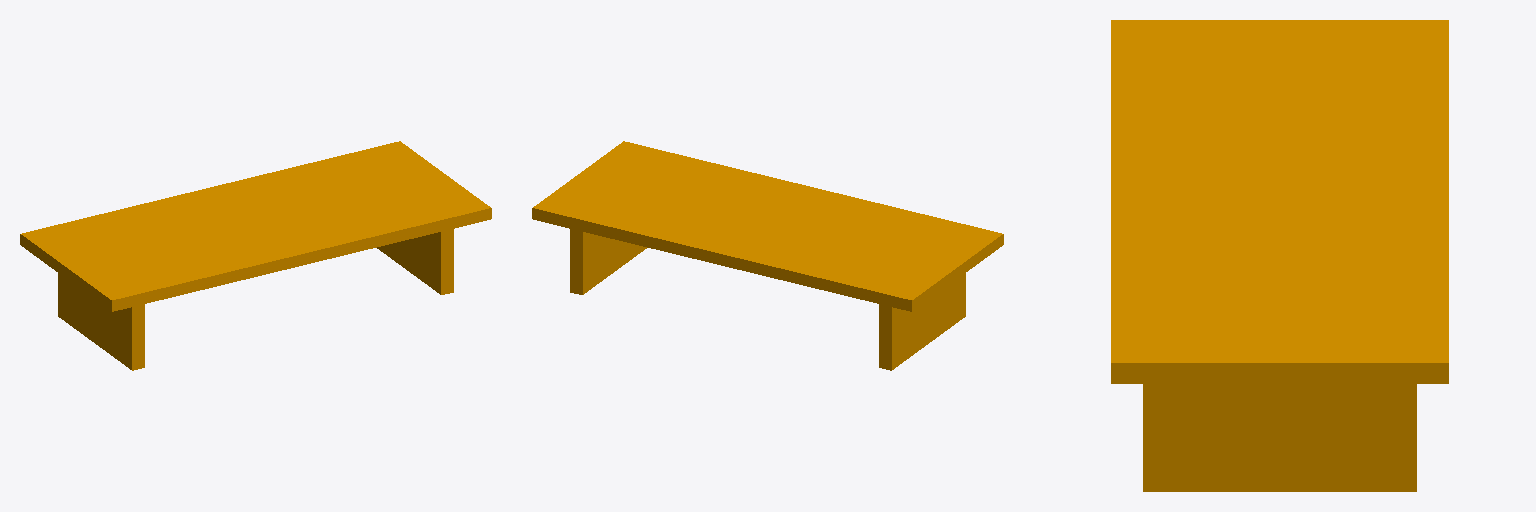
URDF robot description (sniyaz_bin_table):
<robot name="sniyaz_bin_table">
  <link name="base_link">
    <!-- NOTE: Collision geometry is simplified: just three boxes. -->
    <!-- Tabletop Collision Geometry -->
    <collision>
      <origin xyz="0 0 0.358235"/>
      <geometry>
        <box size="1.8288 0.762 0.05295"/>
      </geometry>
    </collision>
    <!-- Left Leg Collision Geometry -->
    <collision>
      <origin xyz="0.7444 0 0.16588"/>
      <geometry>
        <box size="0.06 0.62 0.33176"/>
      </geometry>
    </collision>
    <!-- Right Leg Collision Geometry -->
    <collision>
      <origin xyz="-0.7444 0 0.16588"/>
      <geometry>
        <box size="0.06 0.62 0.33176"/>
      </geometry>
    </collision>
    <!-- NOTE: Visual Geometry is same as (simple) collision geometry. -->
    <!-- Tabletop Visual Geometry -->
    <visual>
      <origin xyz="0 0 0.358235"/>
      <geometry>
        <box size="1.8288 0.762 0.05295"/>
      </geometry>
    </visual>
    <!-- Left Leg visual Geometry -->
    <visual>
      <origin xyz="0.7444 0 0.16588"/>
      <geometry>
        <box size="0.06 0.62 0.33176"/>
      </geometry>
    </visual>
    <!-- Right Leg visual Geometry -->
    <visual>
      <origin xyz="-0.7444 0 0.16588"/>
      <geometry>
        <box size="0.06 0.62 0.33176"/>
      </geometry>
    </visual>
  </link>
</robot>

--- Facts derived from the render (not from the file) ---
The picture shows the robot from 3 angles, left to right: view 1: azimuth 30°, elevation 25°; view 2: azimuth 150°, elevation 25°; view 3: azimuth 270°, elevation 25°; orthographic projection.
Model sniyaz_bin_table with 1 links and 0 joints (none), rooted at base_link, posed every joint at zero.
Visible links, largest first — view 1: base_link; view 2: base_link; view 3: base_link.
Boxes of the visible links, <box> form: base_link: <box>20,141,491,370</box>; base_link: <box>532,141,1003,370</box>; base_link: <box>1111,20,1448,491</box>.
Bounding box of the posed robot: 1.83 × 0.762 × 0.3847 m (x, y, z).
Geometry: primitives only (box / cylinder / sphere), no mesh files.
